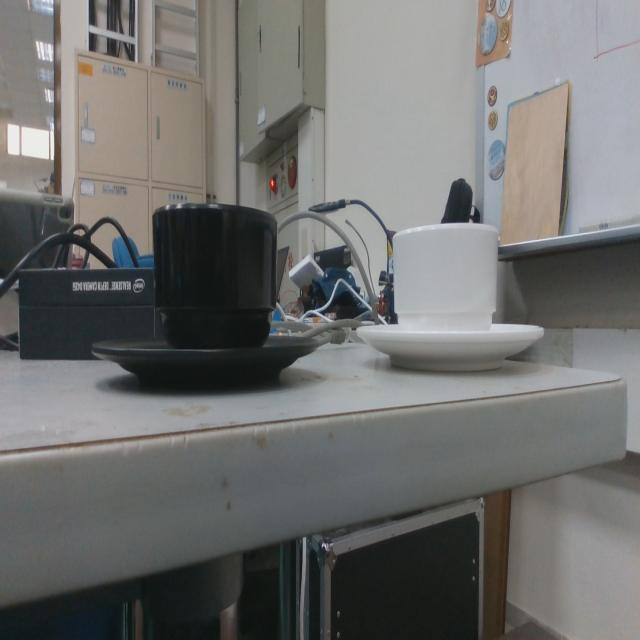black: (90, 198, 322, 396)
white: (354, 220, 545, 380)
